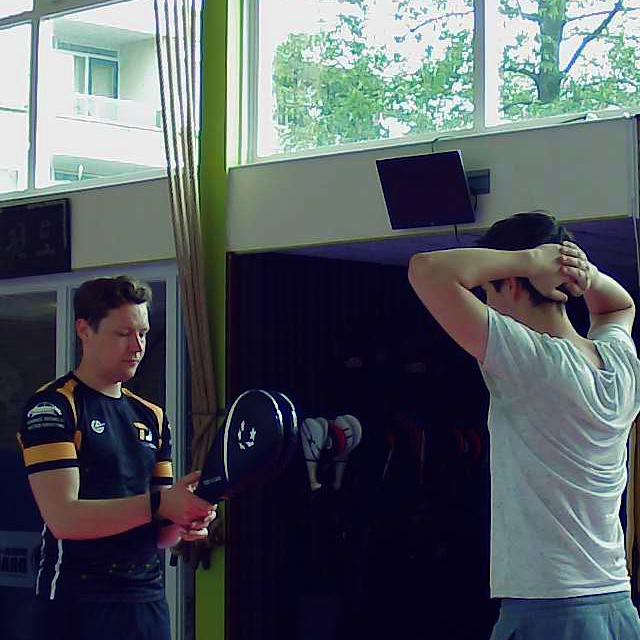paddle: (197, 386, 298, 502)
